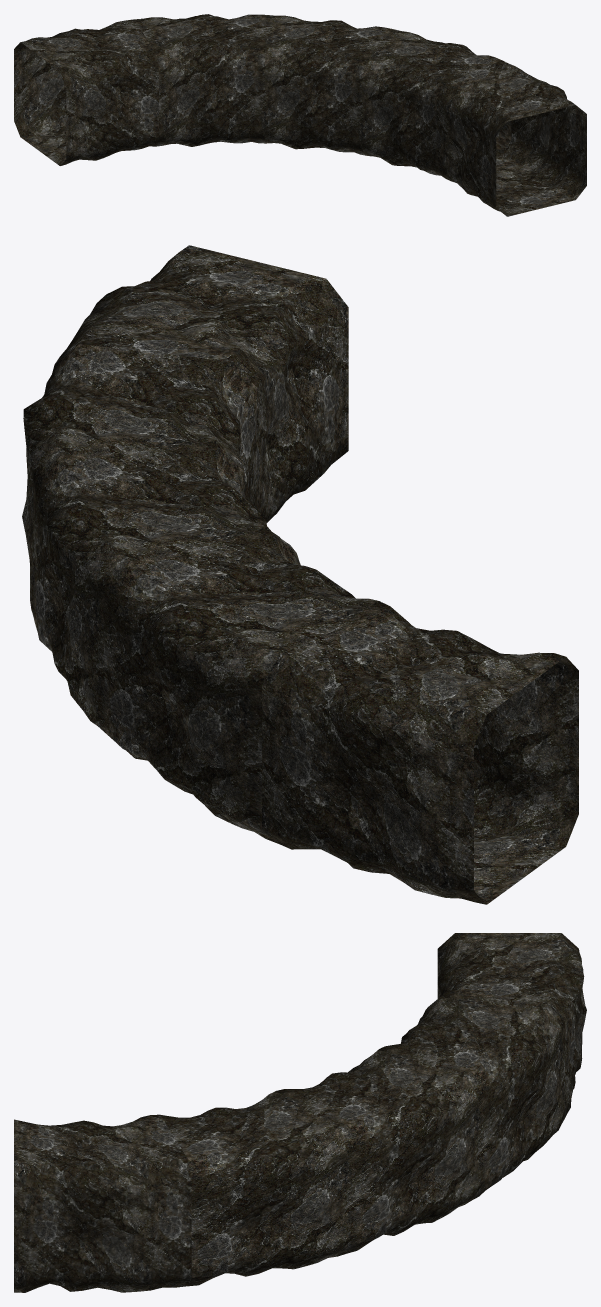
File: Cave_067.fbx
3 views of the same model, one above another, from view 1: azimuth 30°, elevation 25°; view 2: azimuth 150°, elevation 25°; view 3: azimuth 270°, elevation 25° (orthographic). The views are drawn at different scales.
Visible parts, largest first — view 1: Cave.067; view 2: Cave.067; view 3: Cave.067.
Boxes of the visible parts, x1,y1,x2,y2 form: Cave.067: (14,14,586,216); Cave.067: (22,245,578,904); Cave.067: (14,933,586,1292).
Bounding box in the file's own units: 1212 × 313 × 1217.
